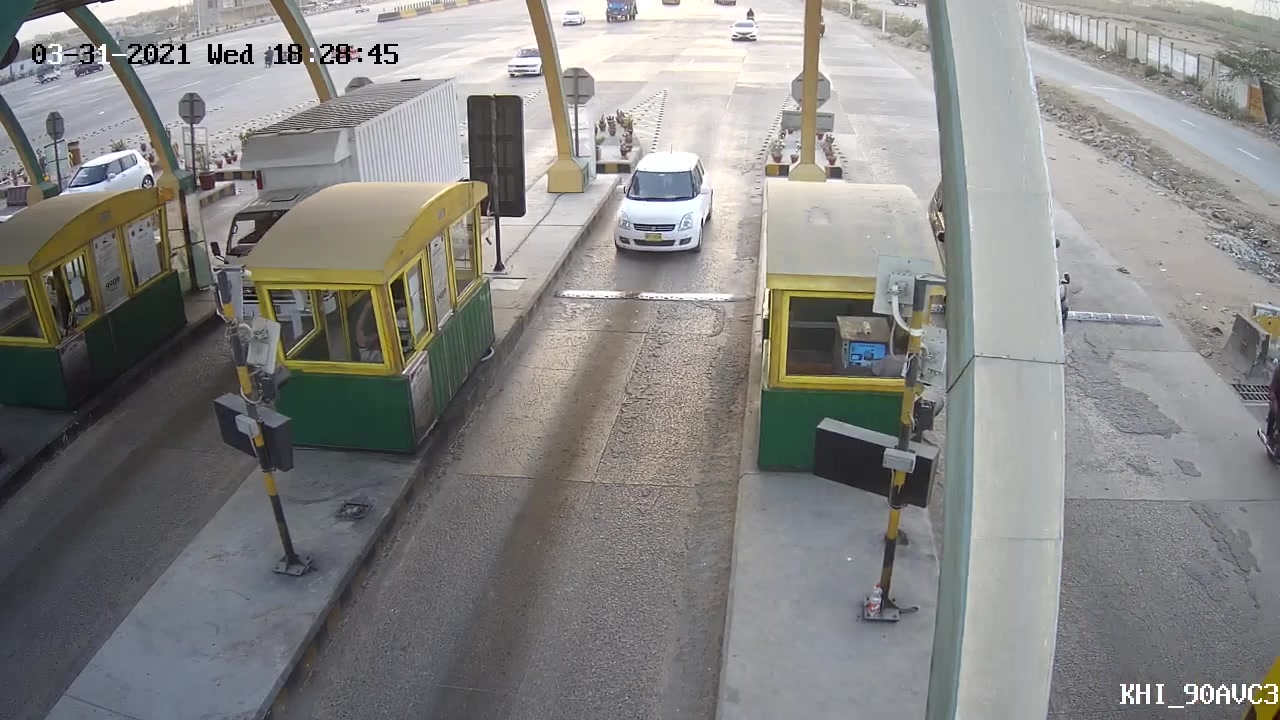F1: (609, 147, 719, 260)
